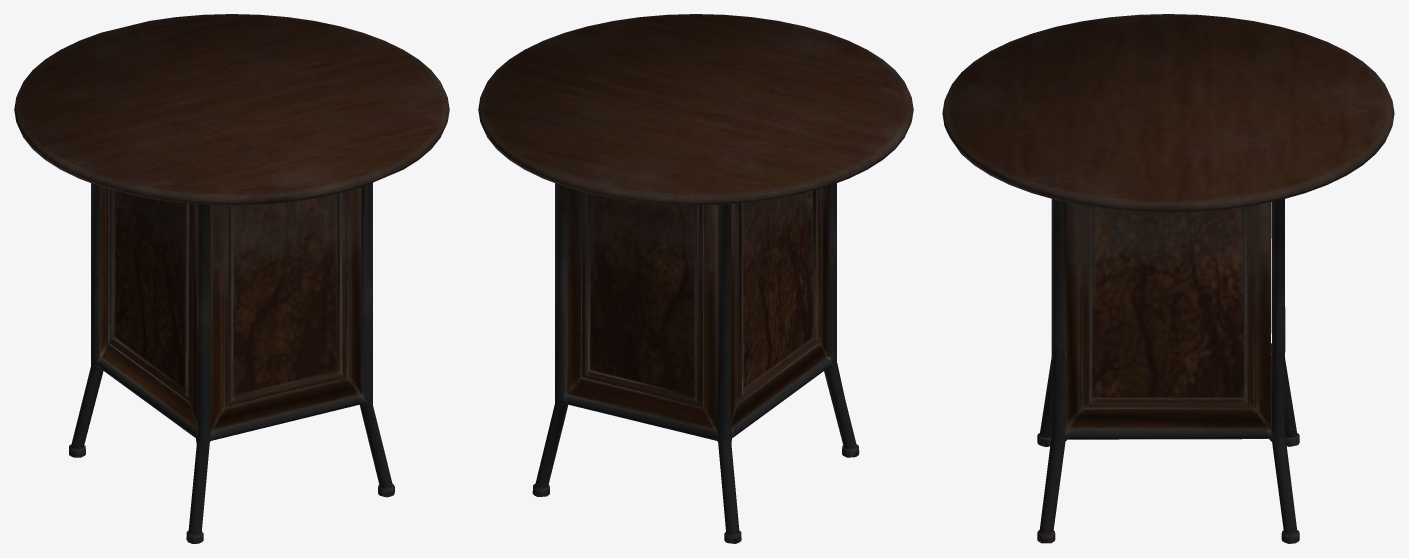
Rendered from round_wooden_table_02_lo.glb.
3 views of the same model, side by side, from view 1: azimuth 30°, elevation 25°; view 2: azimuth 150°, elevation 25°; view 3: azimuth 270°, elevation 25° (orthographic). The views are drawn at different scales.
Parts seen in each view (by area): view 1: round_wooden_table_02; view 2: round_wooden_table_02; view 3: round_wooden_table_02.
Part boxes in pixels (x1,y1,x2,y2): round_wooden_table_02: (14,14,449,543); round_wooden_table_02: (478,14,913,543); round_wooden_table_02: (942,14,1394,543).
Bounding box in the file's own units: 0.7962 × 0.7451 × 0.7962.
1 material, 1 textured.
